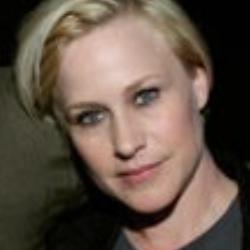face: (8, 1, 223, 221)
